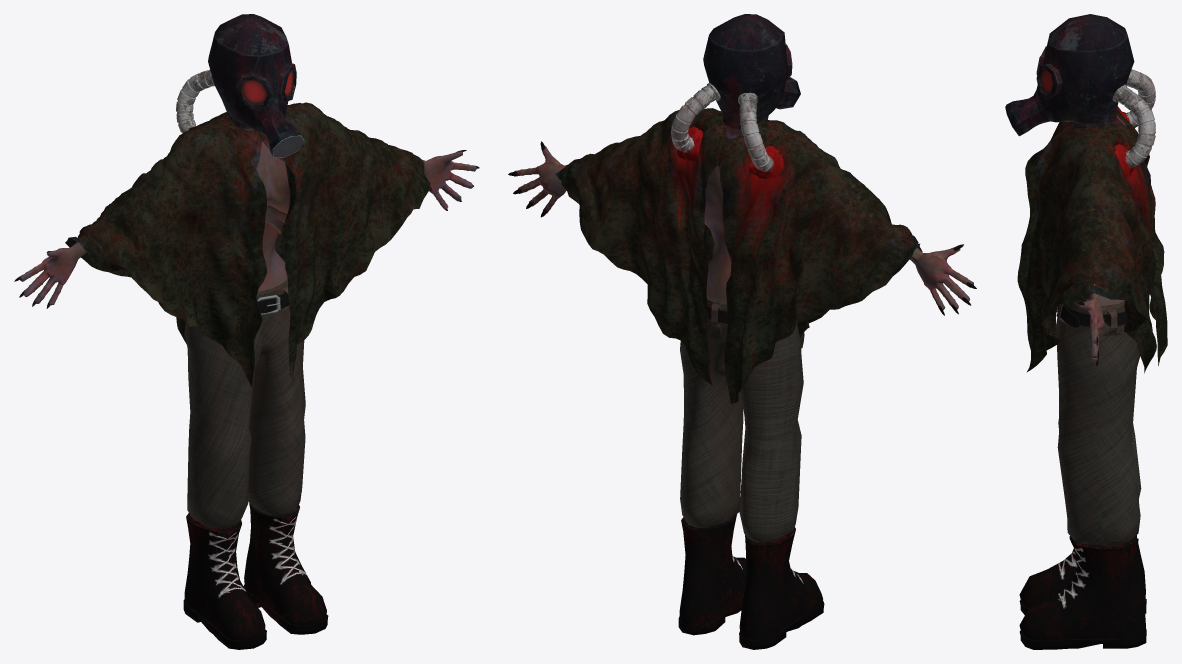
3 views of the same model, side by side, from view 1: azimuth 30°, elevation 25°; view 2: azimuth 150°, elevation 25°; view 3: azimuth 270°, elevation 25° (orthographic).
Parts seen in each view (by area): view 1: UPPER_PART; view 2: UPPER_PART; view 3: UPPER_PART.
Boxes of the visible parts, x1,y1,x2,y2 form: UPPER_PART: [14, 14, 479, 649]; UPPER_PART: [508, 14, 976, 649]; UPPER_PART: [1005, 14, 1167, 649].
Size of the model in its own units: 137 by 169 by 40.93.
Materials: 1 (1 with a texture image).
